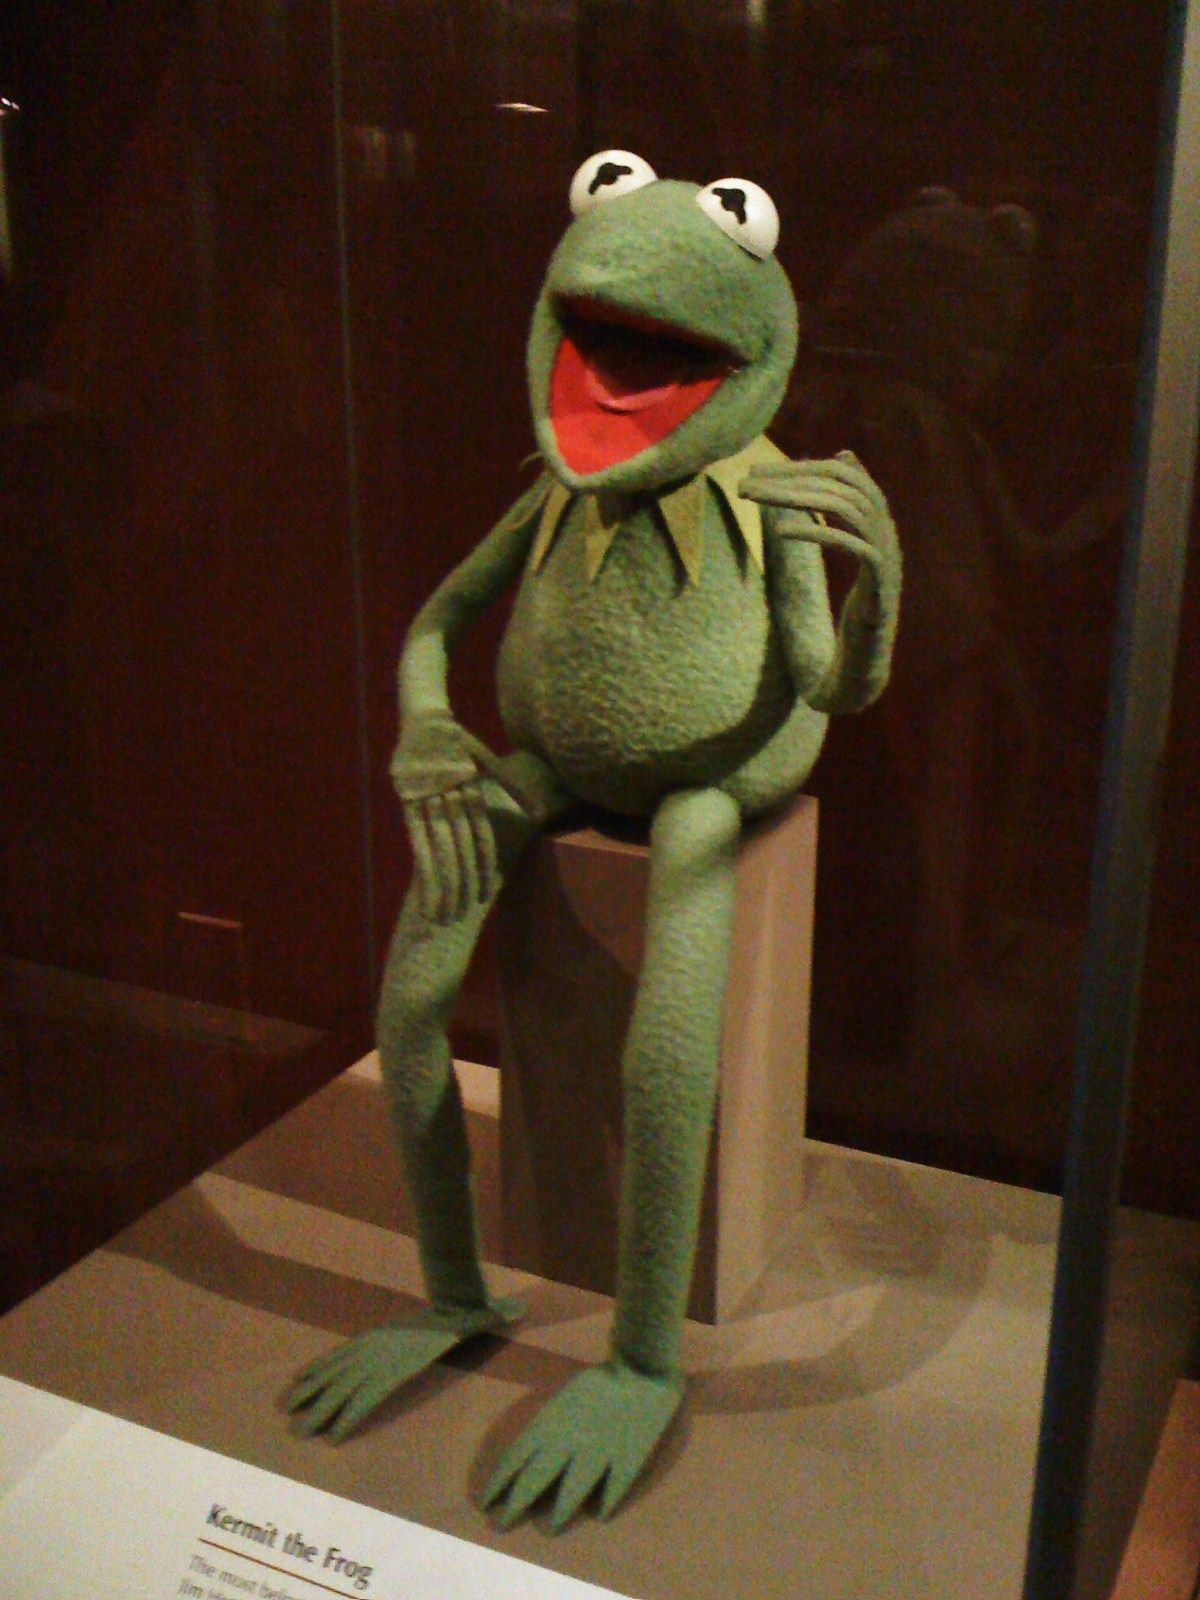kermit: (524, 132, 803, 505)
